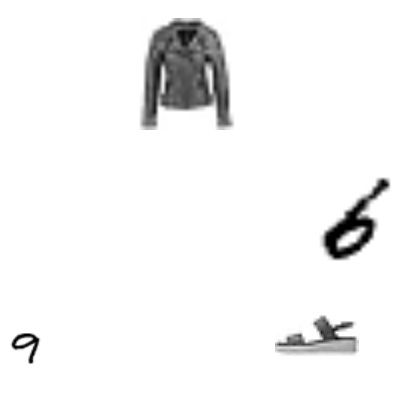6: (297, 167, 409, 279)
9: (6, 323, 48, 365)
Coat: (129, 18, 241, 130)
Sandal: (275, 292, 359, 376)
